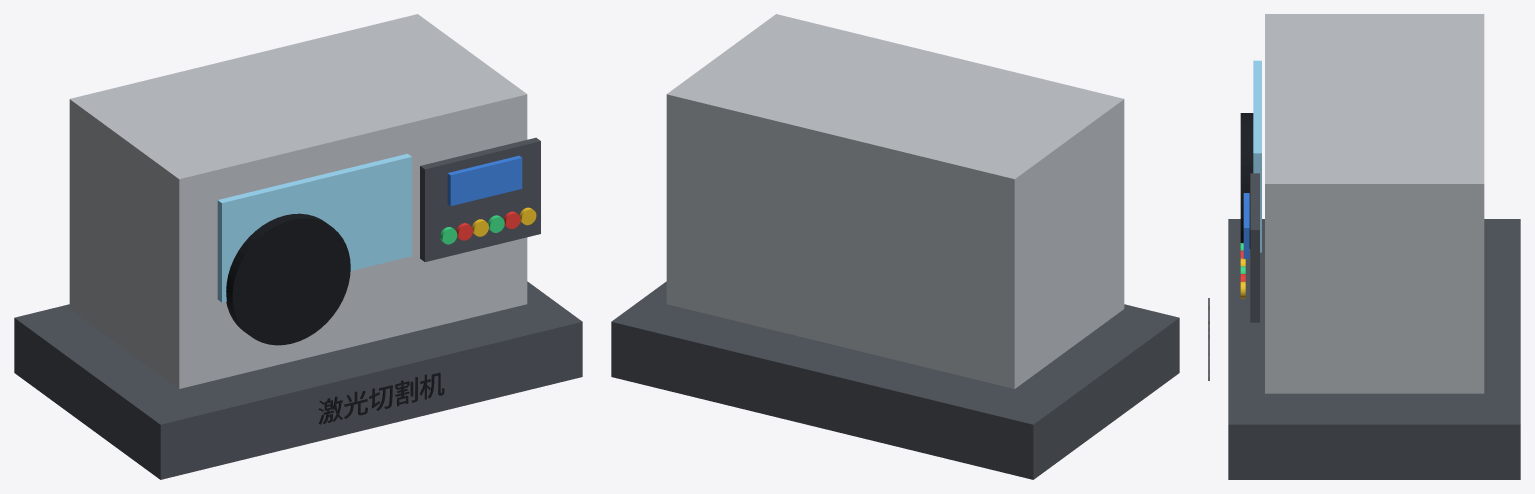
Rendered from asset_laser_cutter.glb.
The picture shows the model from 3 angles, left to right: view 1: azimuth 30°, elevation 25°; view 2: azimuth 150°, elevation 25°; view 3: azimuth 270°, elevation 25°; orthographic projection.
Parts seen in each view (by area): view 1: enclosure, machine_base, front_window, cutting_disc, cut_panel, cut_screen, asset_label; view 2: enclosure, machine_base; view 3: enclosure, machine_base, cut_panel, cutting_disc, front_window, cut_screen.
Boxes of the visible parts, x1,y1,x2,y2 form: enclosure: (69,14,527,388); machine_base: (14,281,582,479); front_window: (217,154,411,302); cutting_disc: (226,213,350,345); cut_panel: (420,137,540,261); cut_screen: (447,155,522,206); asset_label: (318,372,444,424); enclosure: (666,14,1124,388); machine_base: (611,281,1179,479); enclosure: (1265,14,1484,393); machine_base: (1228,219,1520,479); cut_panel: (1250,173,1259,322); cutting_disc: (1240,113,1253,248); front_window: (1253,60,1261,252); cut_screen: (1243,193,1249,258).
Size of the model in its own units: 2 by 1.26 by 1.28.
